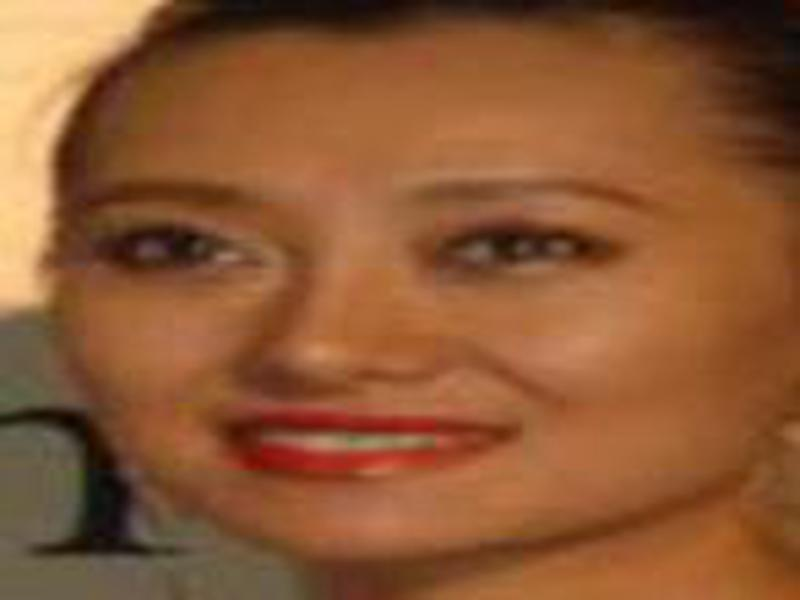without_mask: (57, 50, 753, 567)
